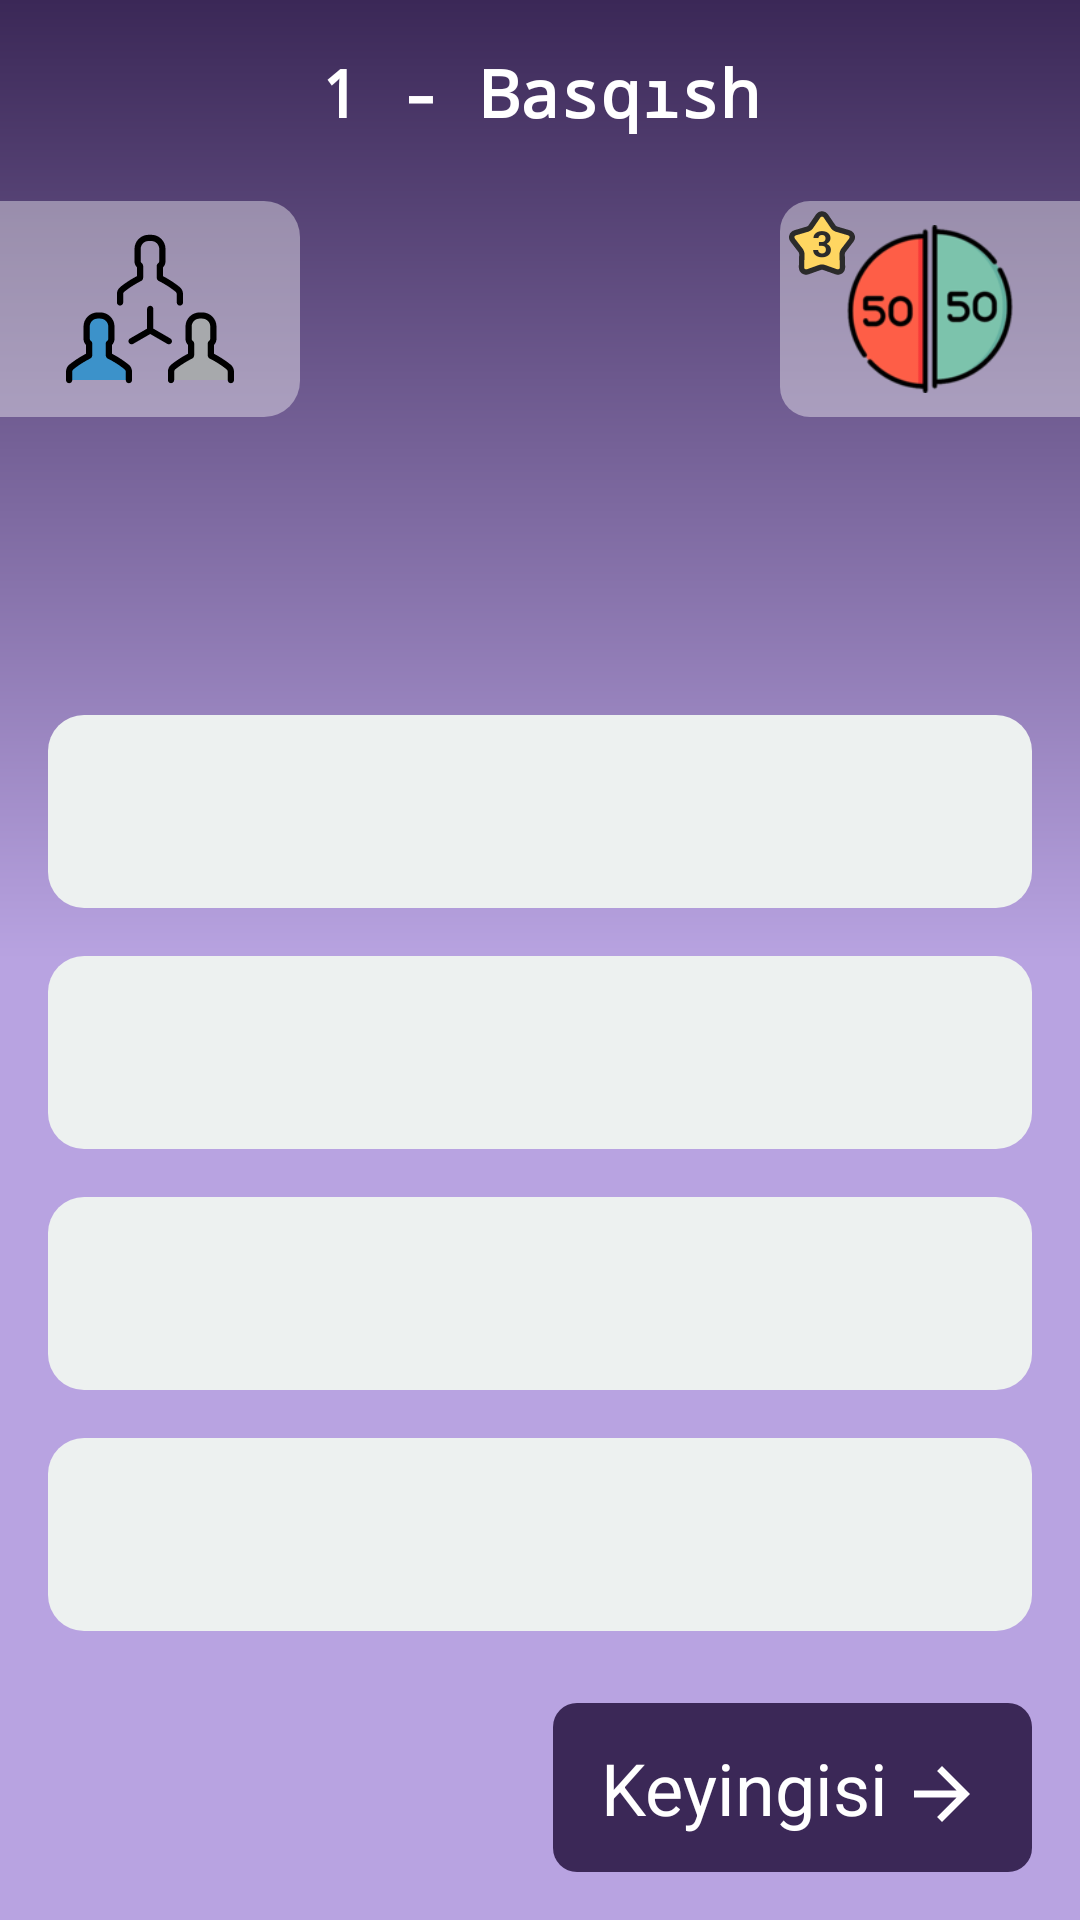

Screen size 1080×1920. Icon name, then its center in pixels as point (x, y):
arrow forward: point (942, 1794)
